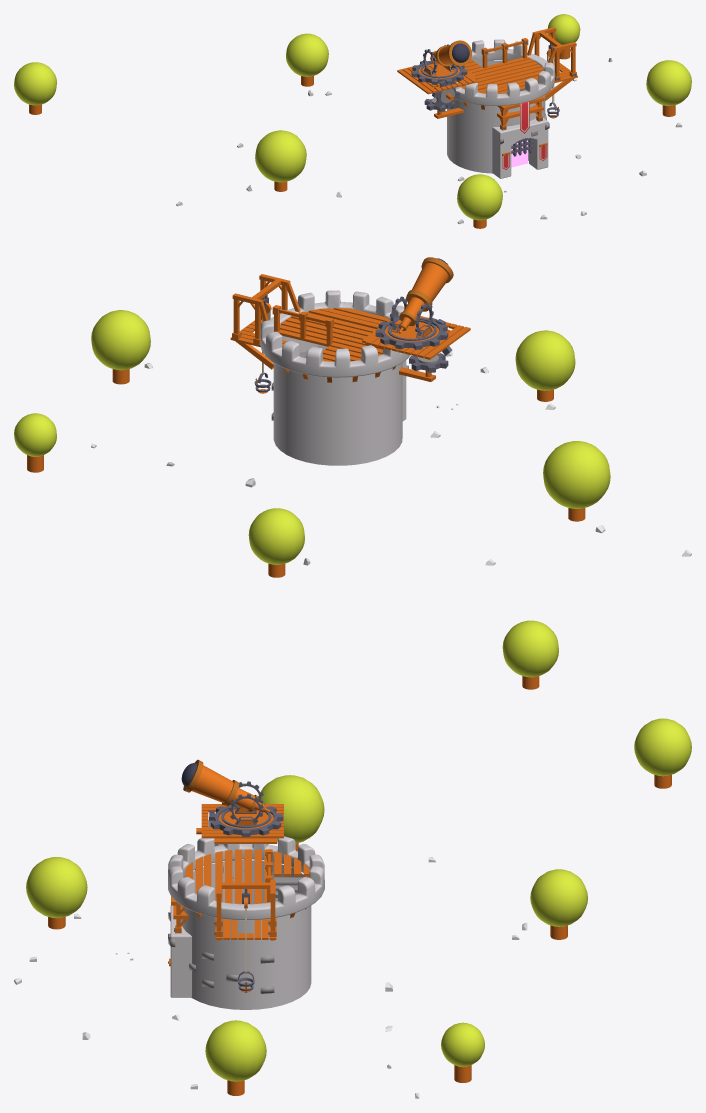
File: small-world.glb
3 views of the same model, one above another, from view 1: azimuth 30°, elevation 25°; view 2: azimuth 150°, elevation 25°; view 3: azimuth 270°, elevation 25° (orthographic). The views are drawn at different scales.
Parts seen in each view (by area): view 1: Cylinder.005, Cylinder.013, foliage.001, Cube, Plane, foliage.002, foliage.005, foliage.004, foliage, foliage.003, Plane.012, Cylinder.027 (+1 smaller); view 2: Cylinder.005, Cylinder.013, foliage.001, Plane, foliage.002, foliage.005, foliage.004, foliage, foliage.003, Plane.012, Cylinder.027, Cylinder.037; view 3: Cylinder.005, Cylinder.013, Plane, foliage.002, foliage.005, foliage.001, foliage.004, foliage, foliage.003, Cube, Plane.012, Cylinder.037 (+1 smaller).
Part boxes in pixels (<box>): Cylinder.005: <box>447,61,545,173</box>; Cylinder.013: <box>455,39,555,105</box>; foliage.001: <box>255,130,306,182</box>; Cube: <box>492,117,548,178</box>; Plane: <box>461,57,544,93</box>; foliage.002: <box>457,174,502,220</box>; foliage.005: <box>646,60,691,105</box>; foliage.004: <box>14,62,56,105</box>; foliage: <box>286,33,328,76</box>; foliage.003: <box>547,14,580,44</box>; Plane.012: <box>397,65,477,94</box>; Cylinder.027: <box>411,60,467,84</box>; Cylinder.005: <box>273,335,402,465</box>; Cylinder.013: <box>260,290,410,377</box>; foliage.001: <box>543,441,610,508</box>; Plane: <box>274,308,389,361</box>; foliage.002: <box>515,330,575,390</box>; foliage.005: <box>91,310,150,370</box>; foliage.004: <box>502,620,558,677</box>; foliage: <box>248,508,304,564</box>; foliage.003: <box>14,413,56,456</box>; Plane.012: <box>365,316,470,359</box>; Cylinder.027: <box>375,316,448,349</box>; Cylinder.037: <box>412,263,448,301</box>; Cylinder.005: <box>180,860,311,1009</box>; Cylinder.013: <box>168,836,324,920</box>; Plane: <box>185,849,309,903</box>; foliage.002: <box>26,857,87,918</box>; foliage.005: <box>205,1020,266,1081</box>; foliage.001: <box>258,775,324,843</box>; foliage.004: <box>634,718,691,776</box>; foliage: <box>530,869,587,926</box>; foliage.003: <box>441,1022,484,1066</box>; Cube: <box>170,905,191,997</box>; Plane.012: <box>201,804,283,838</box>; Cylinder.037: <box>192,765,233,802</box>.
Size of the model in its own units: 24.92 by 6.45 by 21.48.
